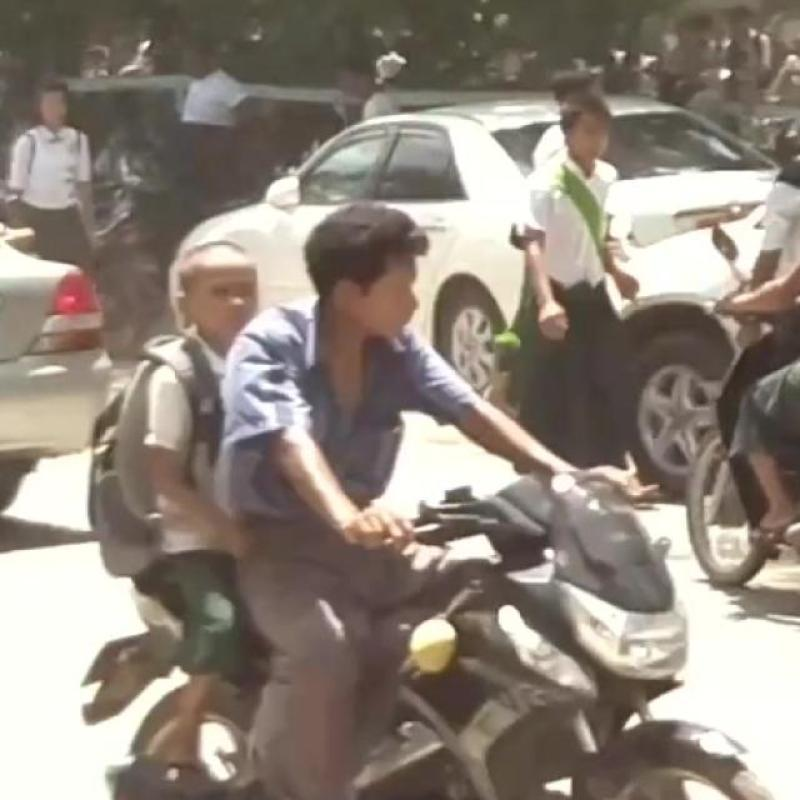nohelmet: (290, 204, 464, 336), (136, 236, 270, 339)
